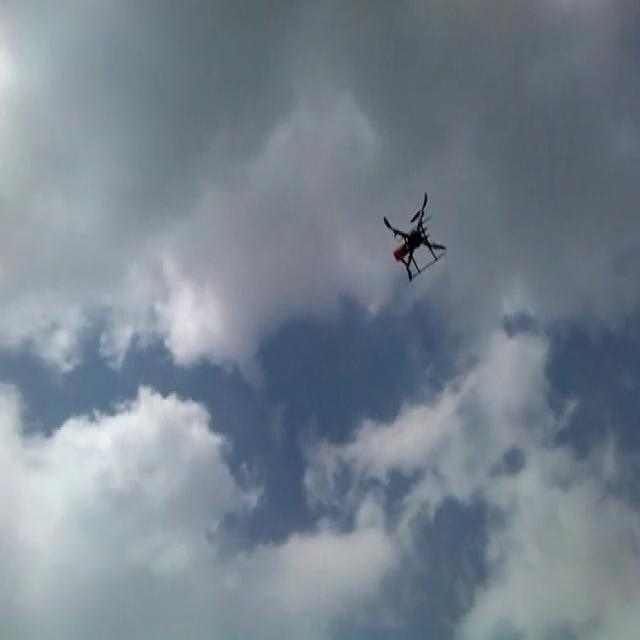drone: (382, 186, 446, 284)
